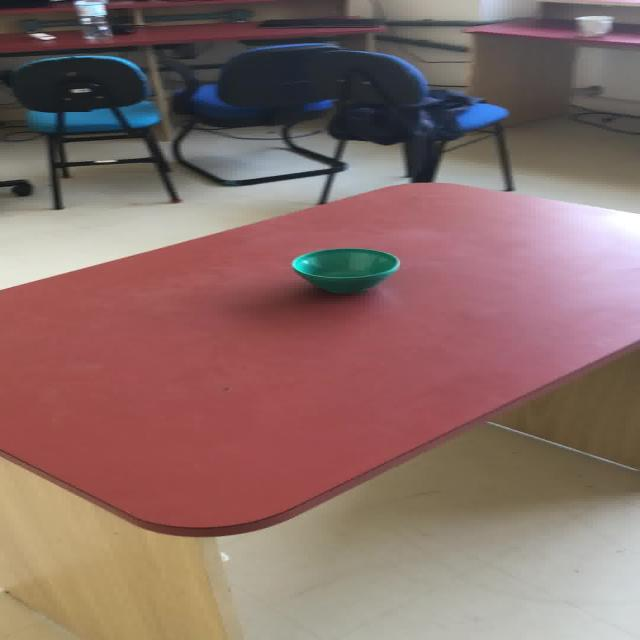bowl: (290, 247, 400, 293), (574, 15, 614, 36)
